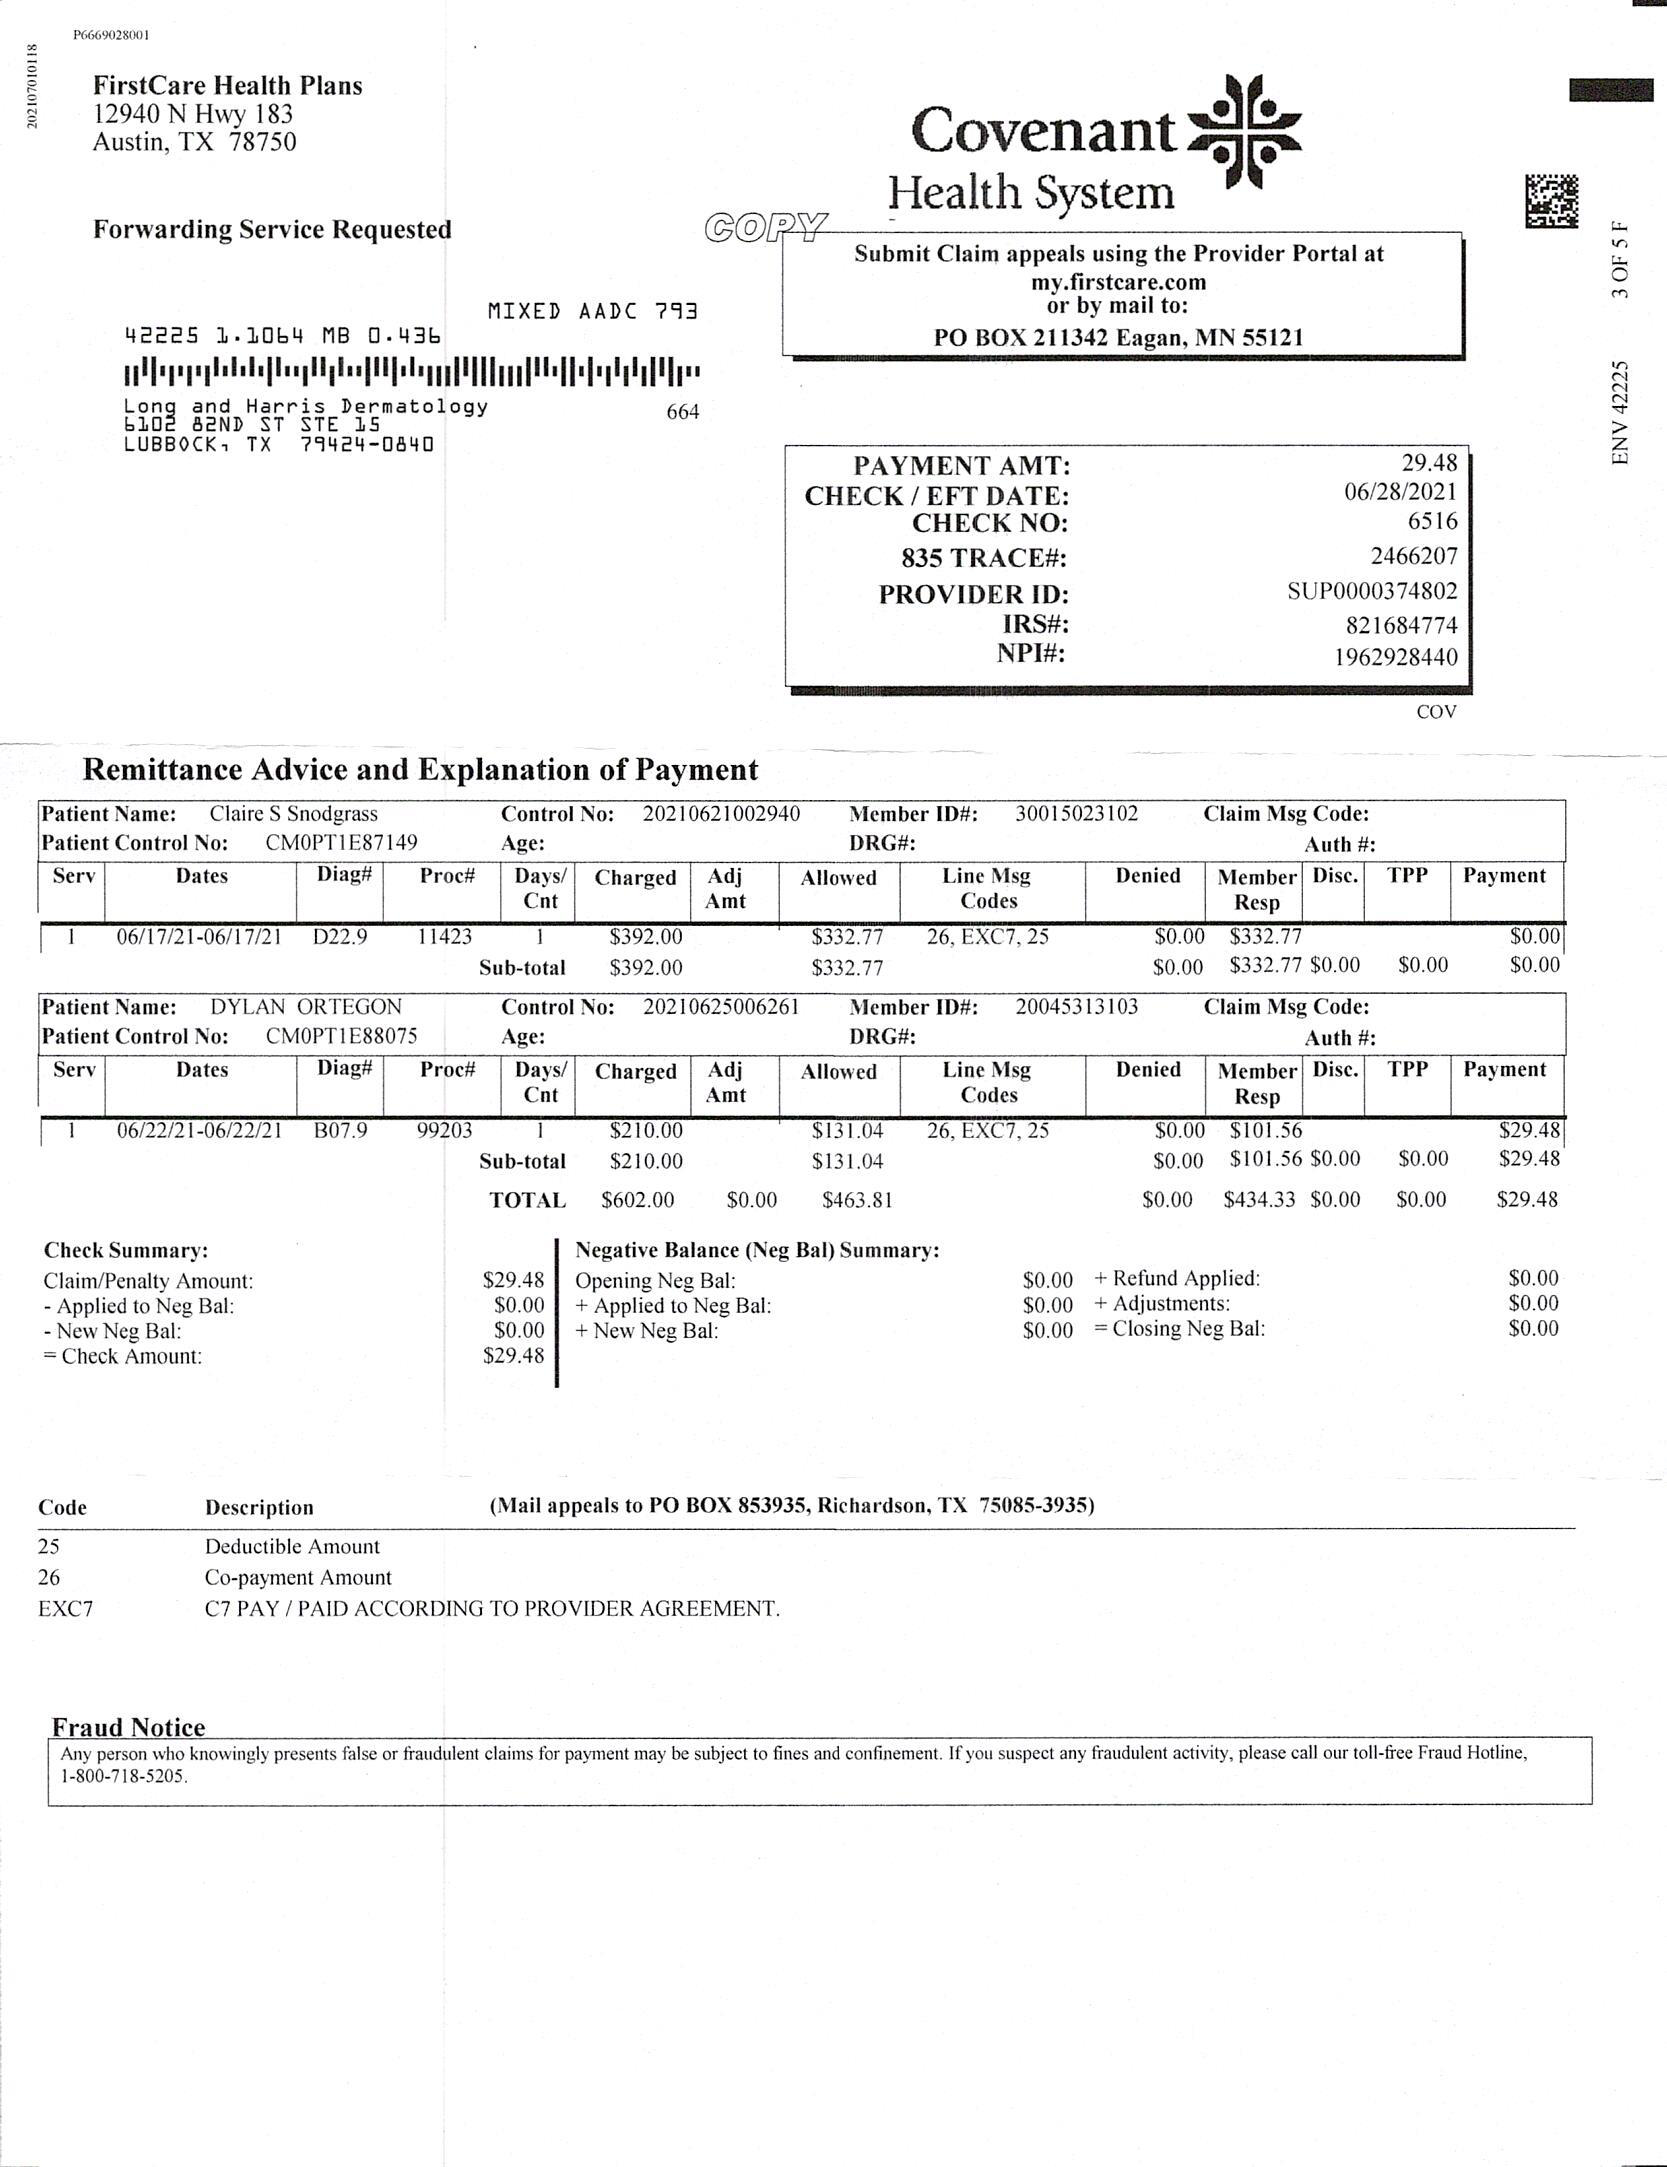data: (769, 429, 1497, 721)
table: (28, 977, 1574, 1224), (23, 784, 1581, 980)
